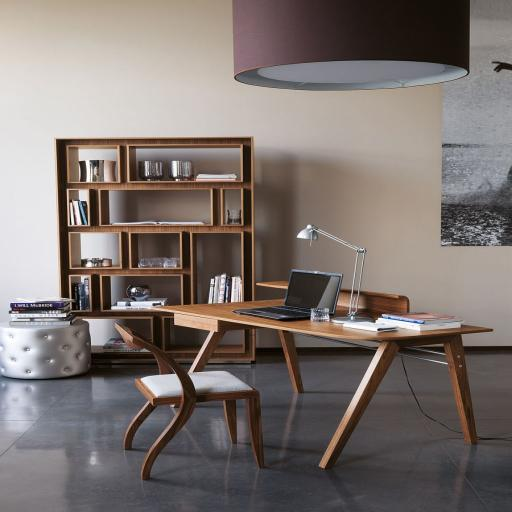chair: (114, 322, 264, 480)
desk: (152, 281, 494, 469)
wall: (0, 0, 512, 347)
